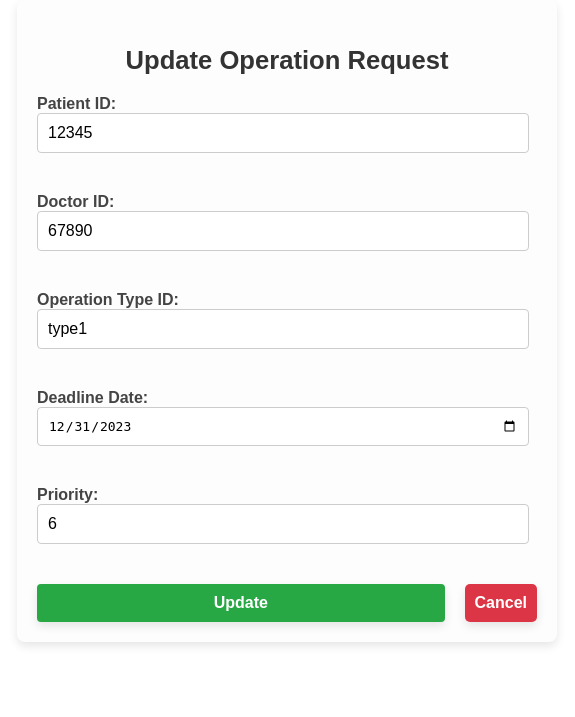
Test: OperationRequestUpdate Component › displays an error message on update failure
What coordinates should you click on to do the following:
click the button "Update"
I would click on:
 (241, 603)
Its box is x1=37 y1=584 x2=444 y2=622.
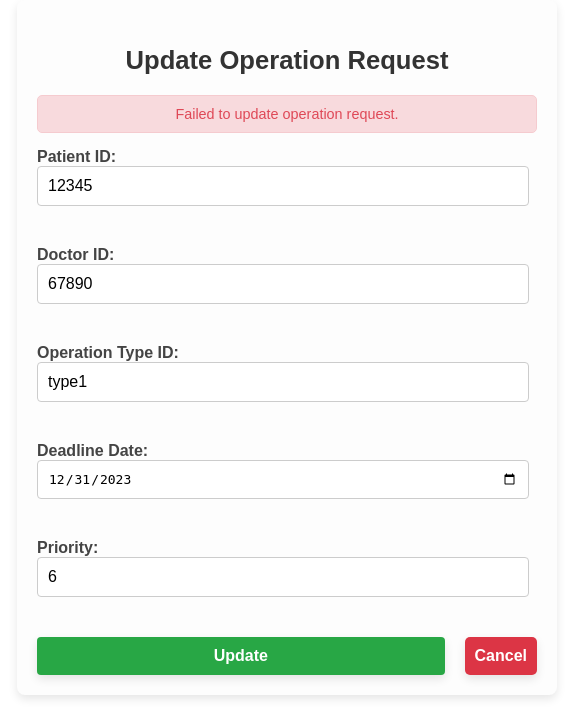
expect the text "Failed to update operation request." is shown: met, box x1=37 y1=95 x2=537 y2=133
